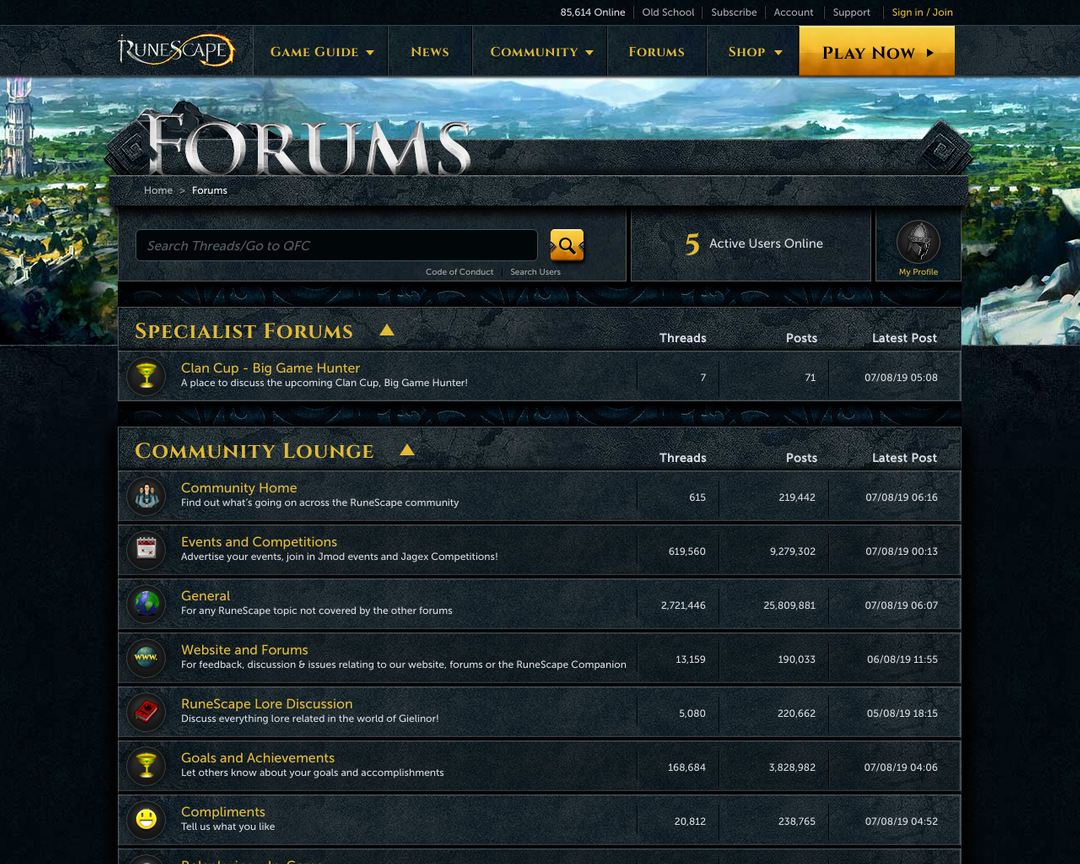Runescape: (117, 27, 237, 72)
